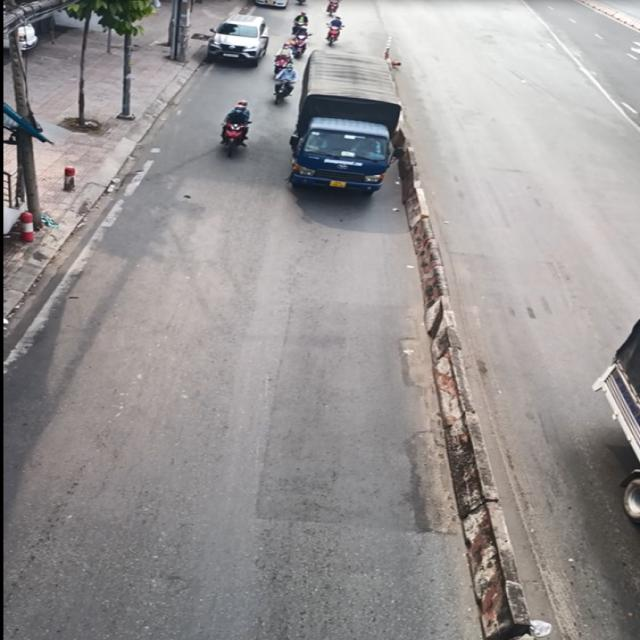motor: (223, 99, 267, 163)
truck: (289, 48, 402, 199)
